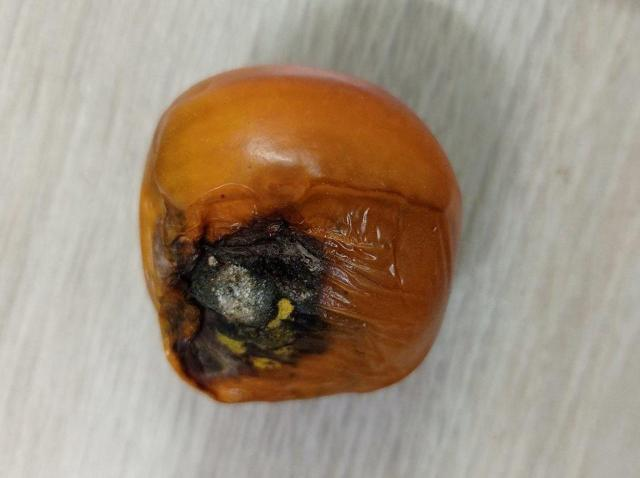defect: (134, 59, 464, 409)
